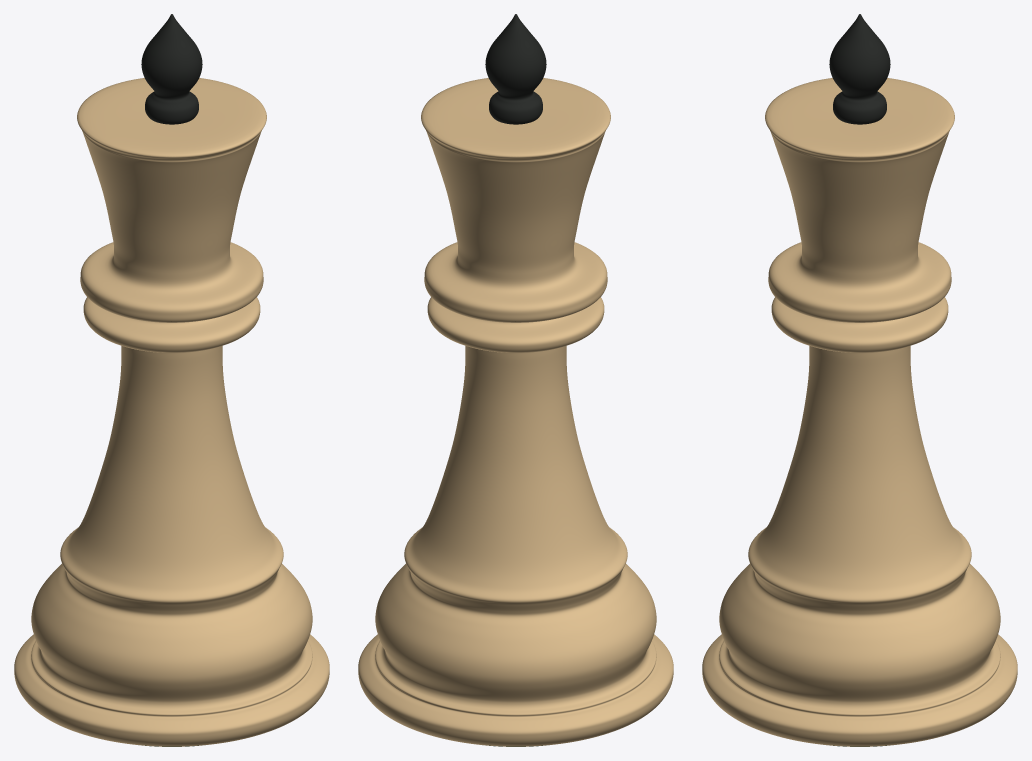
Rendered from king.glb.
3 renders of one model, left to right at view 1: azimuth 30°, elevation 25°; view 2: azimuth 150°, elevation 25°; view 3: azimuth 270°, elevation 25°, orthographic.
Visible parts, largest first — view 1: Piece_King; view 2: Piece_King; view 3: Piece_King.
Part boxes in pixels (x1,y1,x2,y2): Piece_King: (14,14,329,746); Piece_King: (358,14,673,746); Piece_King: (702,14,1017,746).
Bounding box in the file's own units: 0.0414 × 0.0979 × 0.0414.
